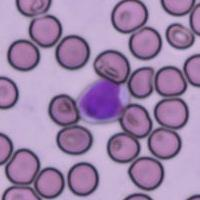L: (76, 77, 130, 123)
